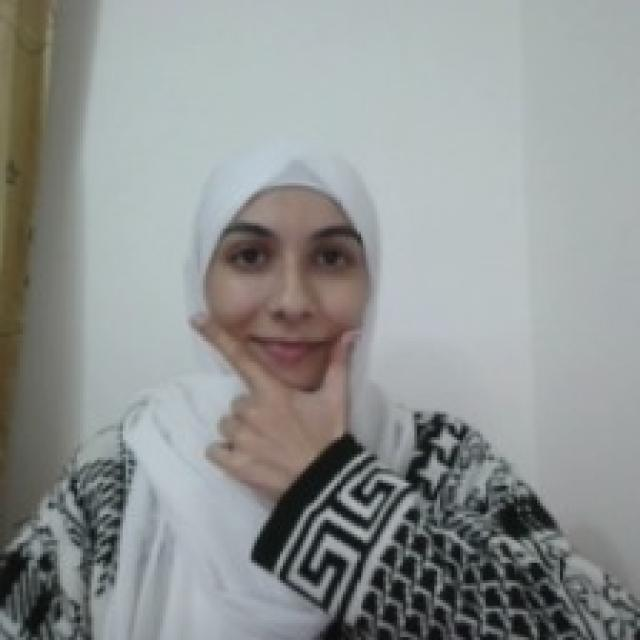smile: (182, 307, 366, 461)
